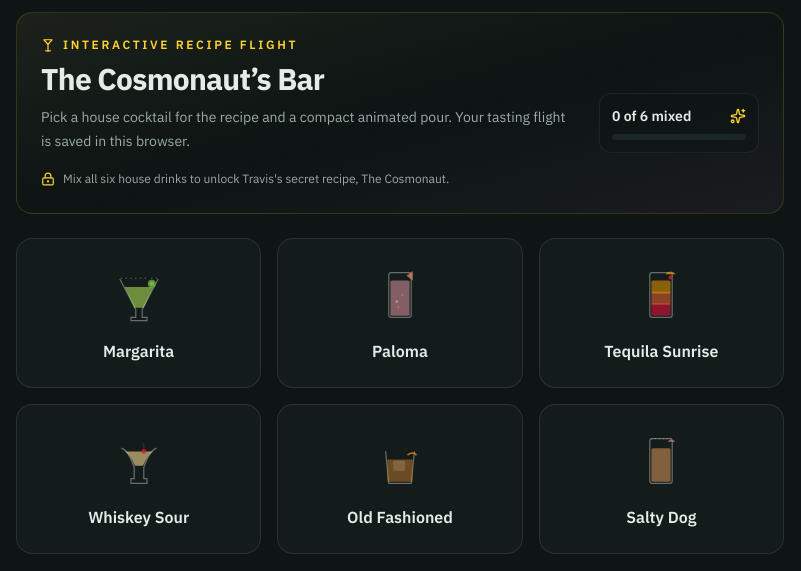
Test: CocktailMixer component › shows method badge in recipe view
Click the button "Margarita" at (139, 313), box [16,238,261,388]
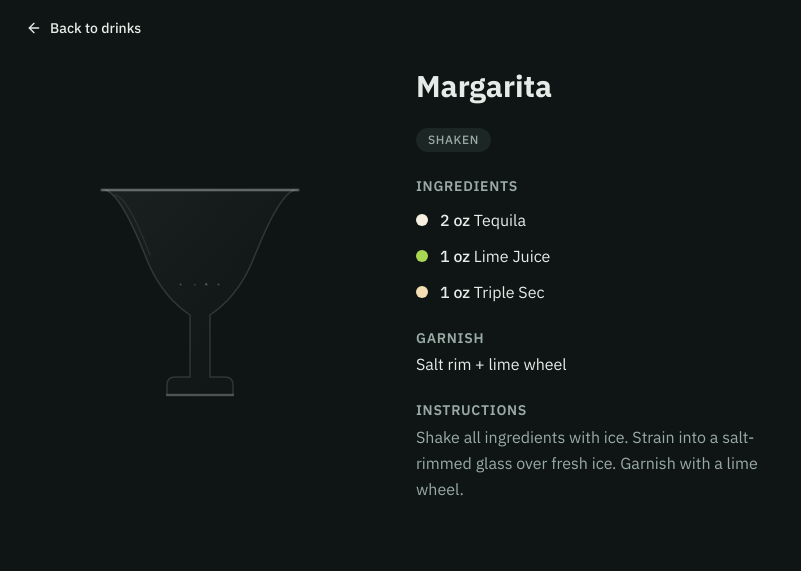
Result: the text "shaken" is shown at [416,128,491,152]
